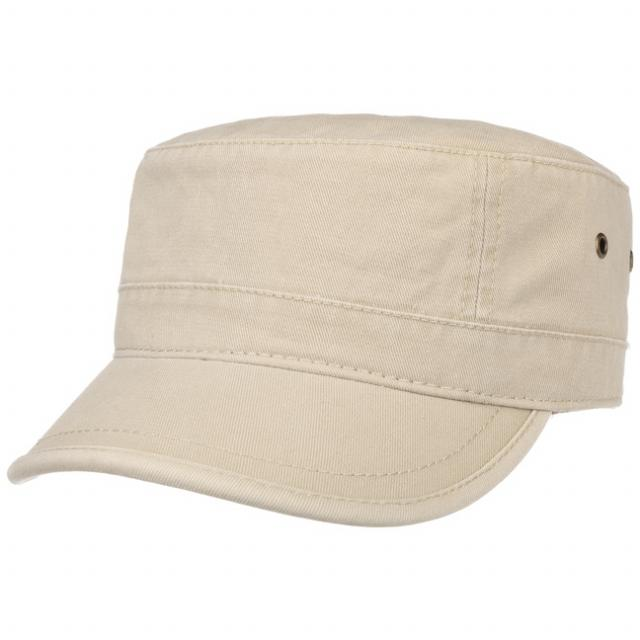Cap: (56, 99, 609, 572)
